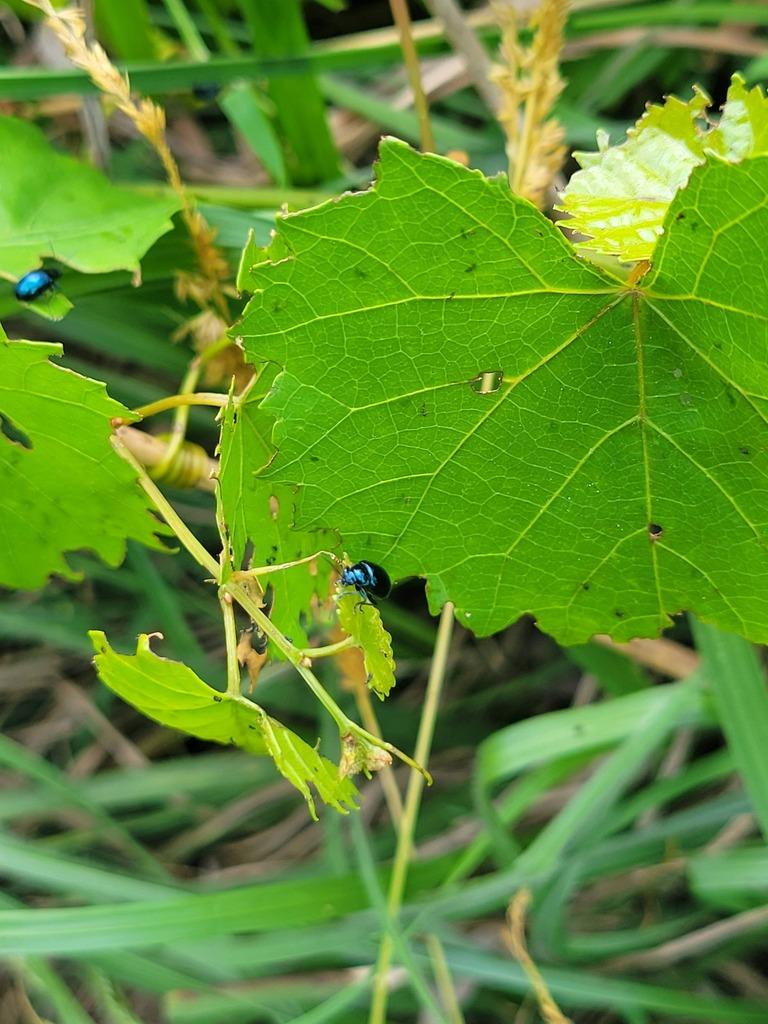flea_beetle: (319, 540, 413, 619), (0, 243, 79, 325)
